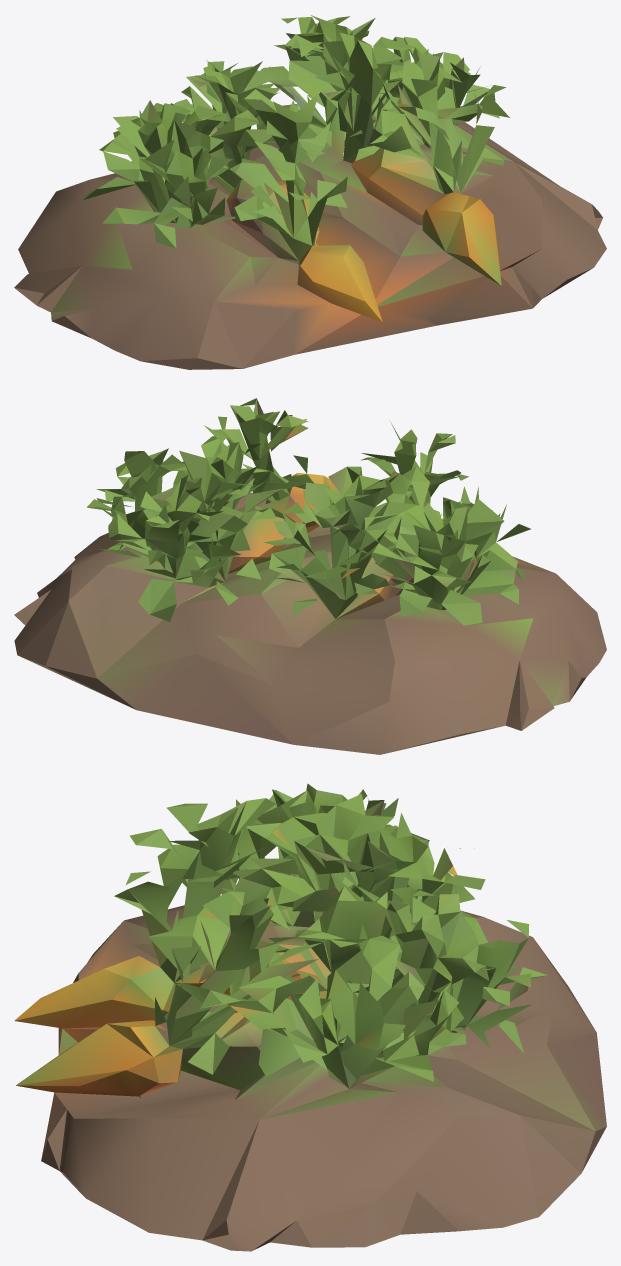
The model's file is carrots.glb.
3 views of the same model, one above another, from view 1: azimuth 30°, elevation 25°; view 2: azimuth 150°, elevation 25°; view 3: azimuth 270°, elevation 25° (orthographic). The views are drawn at different scales.
Visible parts, largest first — view 1: geometry_0; view 2: geometry_0; view 3: geometry_0.
Part boxes in pixels (<box>): geometry_0: <box>14,15,606,369</box>; geometry_0: <box>14,398,606,754</box>; geometry_0: <box>14,783,606,1251</box>.
Size of the model in its own units: 1.66 by 0.6061 by 1.3.
